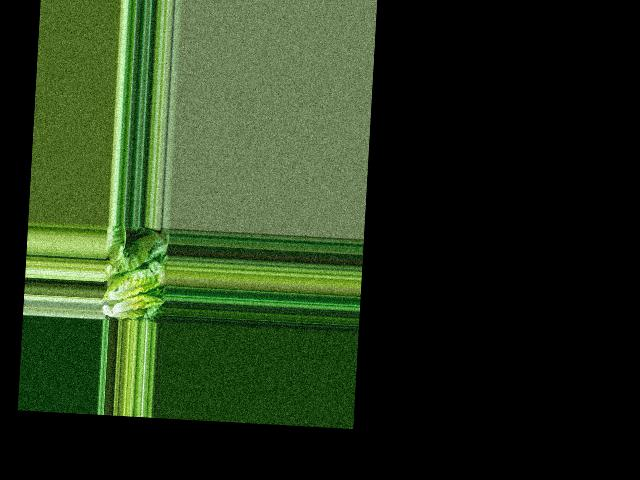lettuce: (101, 257, 163, 321)
